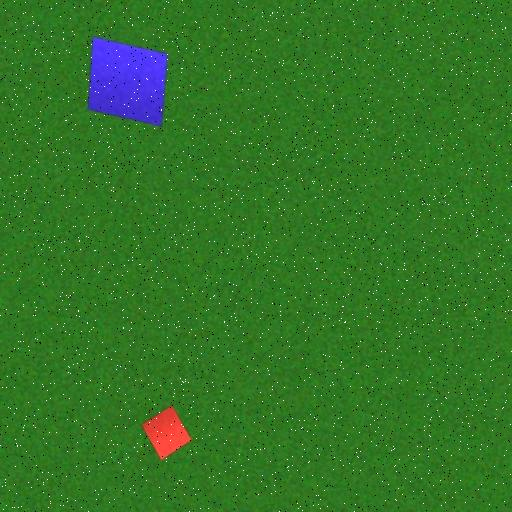BLUE_SQUARE: (87, 36, 168, 127)
RED_SQUARE: (140, 404, 192, 462)
